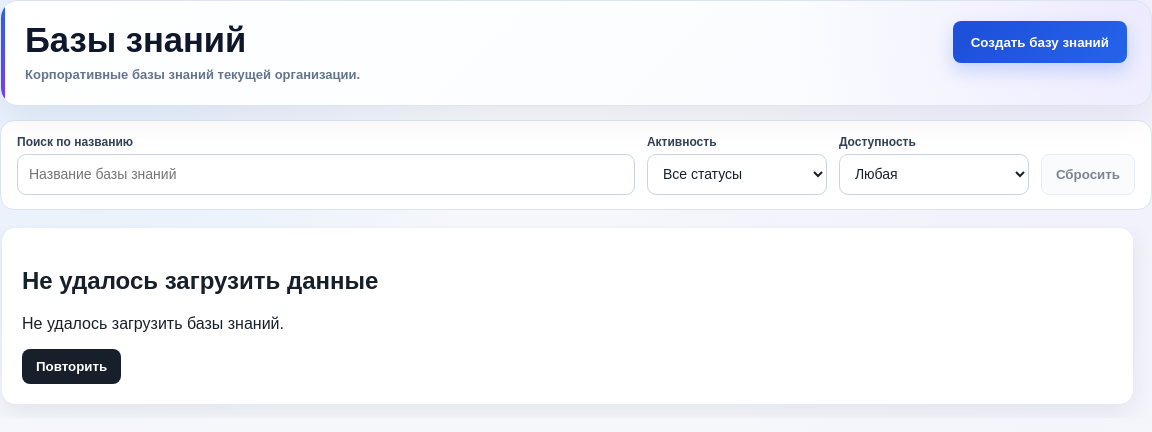
Test case: KnowledgePage › при ошибке чтения не отображает устаревшие карточки и предлагает повтор
expect the text "Не удалось загрузить базы знаний." is shown: met, box [22,315,284,332]
Click the button "Повторить" at (72, 367), box [22,349,121,384]
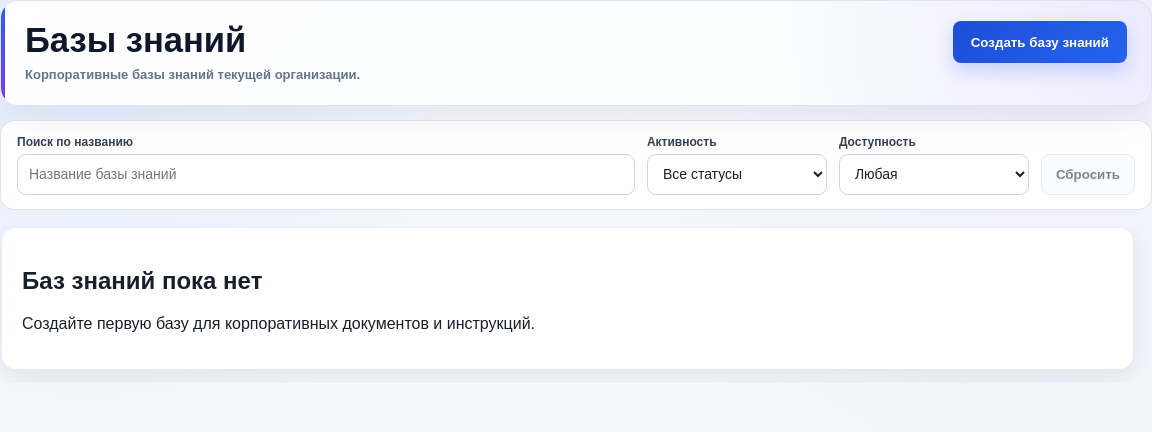
expect the heading "Баз знаний пока нет" is shown: met, box [22,267,262,294]
